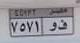1: (34, 20, 40, 33)
5: (20, 22, 26, 34)
7: (26, 20, 34, 33), (11, 21, 18, 33)
faa: (58, 19, 68, 31)
waw: (48, 21, 57, 33)
